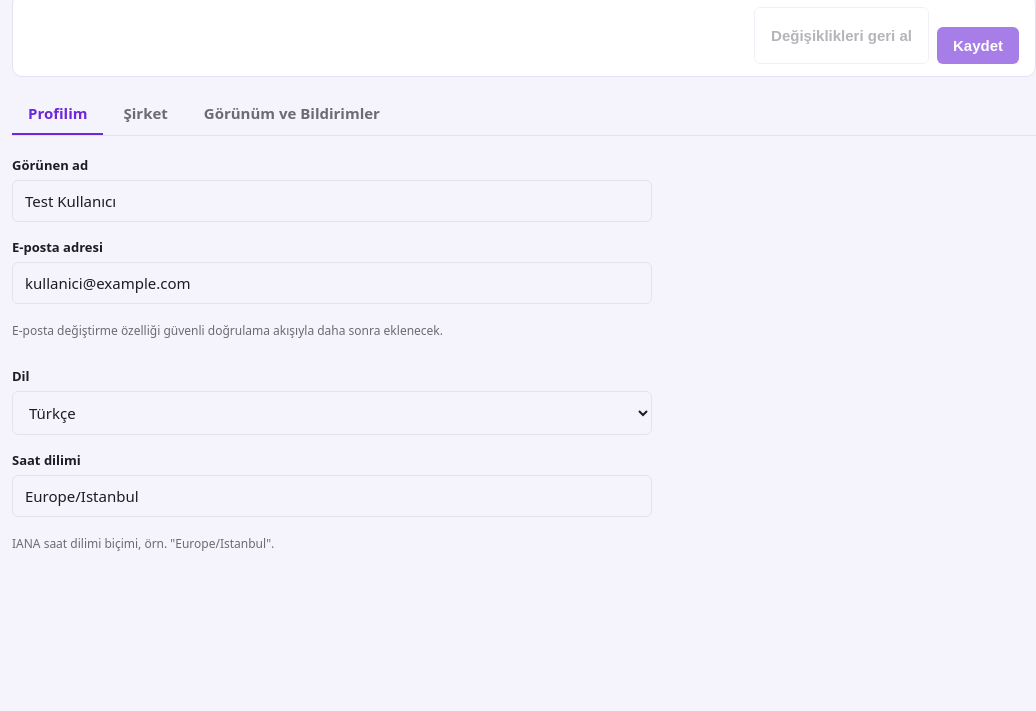
Test: Settings › test varsayilanlarini Sirket altinda kapali Gelismis ayarlar bolumunde sunar
Expected: the element showing "Profilim Şirket Görünüm ve Bildirimler" is shown, [12,93,1035,136]
Click the tab "Şirket".
click(146, 114)  # box [108,93,184,135]
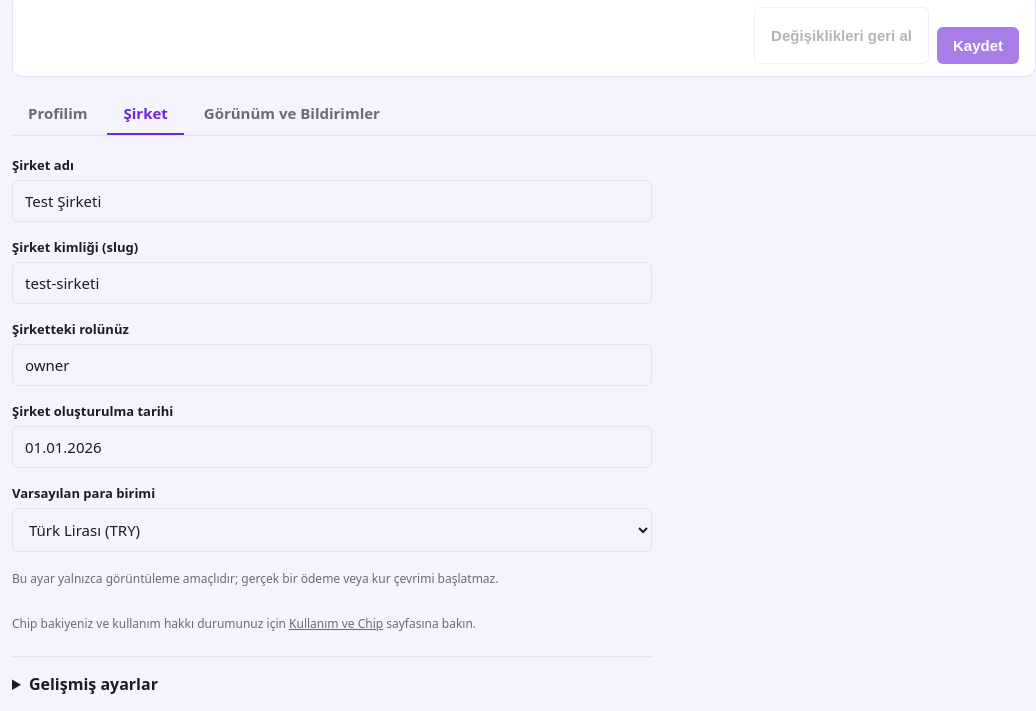
Expected: the field labelled "Varsayılan persona sayısı" is not shown
Click the heading "Gelişmiş ayarlar".
click(93, 684)  # box [29,673,158,695]
(page scrolled)
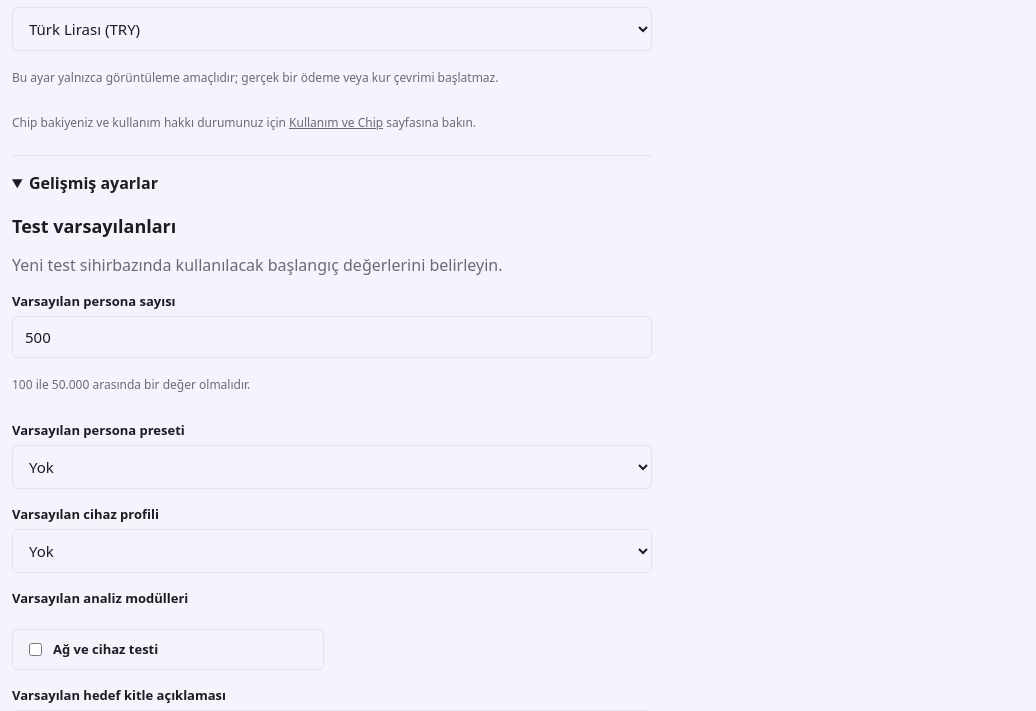
Expected: the heading "Test varsayılanları" is shown, [12,214,176,238]
Expected: the number field labelled "Varsayılan persona sayısı" is shown, [12,316,652,358]
